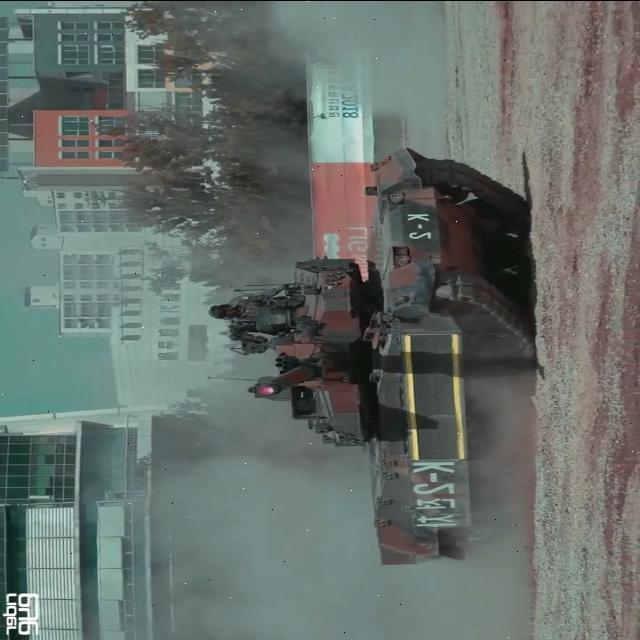korea tank: (206, 144, 542, 569)
